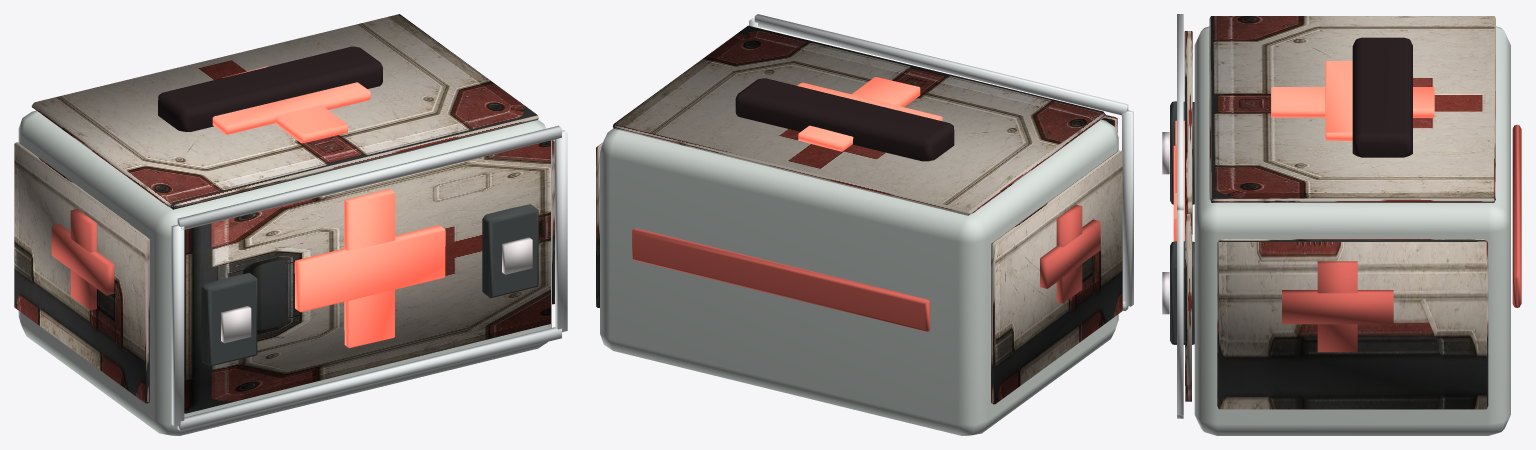
File: hp_pickup_medkit_white_red.glb
3 views of the same model, side by side, from view 1: azimuth 30°, elevation 25°; view 2: azimuth 150°, elevation 25°; view 3: azimuth 270°, elevation 25° (orthographic). The views are drawn at different scales.
Visible parts, largest first — view 1: pickup_medkit_white_red_front_image2_face, pickup_medkit_white_red_dark_latch_l, pickup_medkit_white_red_red_cross_horizontal; view 2: pickup_medkit_white_red_dark_latch_l, pickup_medkit_white_red_front_image2_face, pickup_medkit_white_red_red_cross_horizontal; view 3: pickup_medkit_white_red_front_image2_face, pickup_medkit_white_red_dark_latch_l, pickup_medkit_white_red_red_cross_horizontal.
Part boxes in pixels (x1,y1,x2,y2): pickup_medkit_white_red_front_image2_face: [14, 14, 554, 413]; pickup_medkit_white_red_dark_latch_l: [18, 46, 567, 435]; pickup_medkit_white_red_red_cross_horizontal: [212, 66, 445, 347]; pickup_medkit_white_red_dark_latch_l: [600, 14, 1133, 435]; pickup_medkit_white_red_front_image2_face: [596, 25, 1122, 404]; pickup_medkit_white_red_red_cross_horizontal: [797, 77, 942, 151]; pickup_medkit_white_red_front_image2_face: [1184, 16, 1495, 409]; pickup_medkit_white_red_dark_latch_l: [1162, 14, 1521, 435]; pickup_medkit_white_red_red_cross_horizontal: [1173, 61, 1434, 241].
Size of the model in its own units: 0.6683 by 0.3825 by 0.4767.
Materials: 3 (3 with a texture image).
